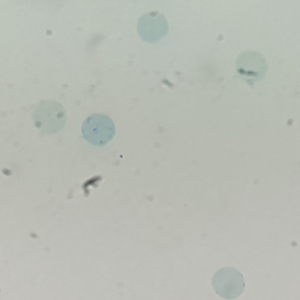erythrocyte: (30, 98, 68, 136), (233, 50, 267, 84), (135, 11, 170, 44)
punctate reticulocyte: (210, 264, 248, 300), (80, 112, 117, 147)
